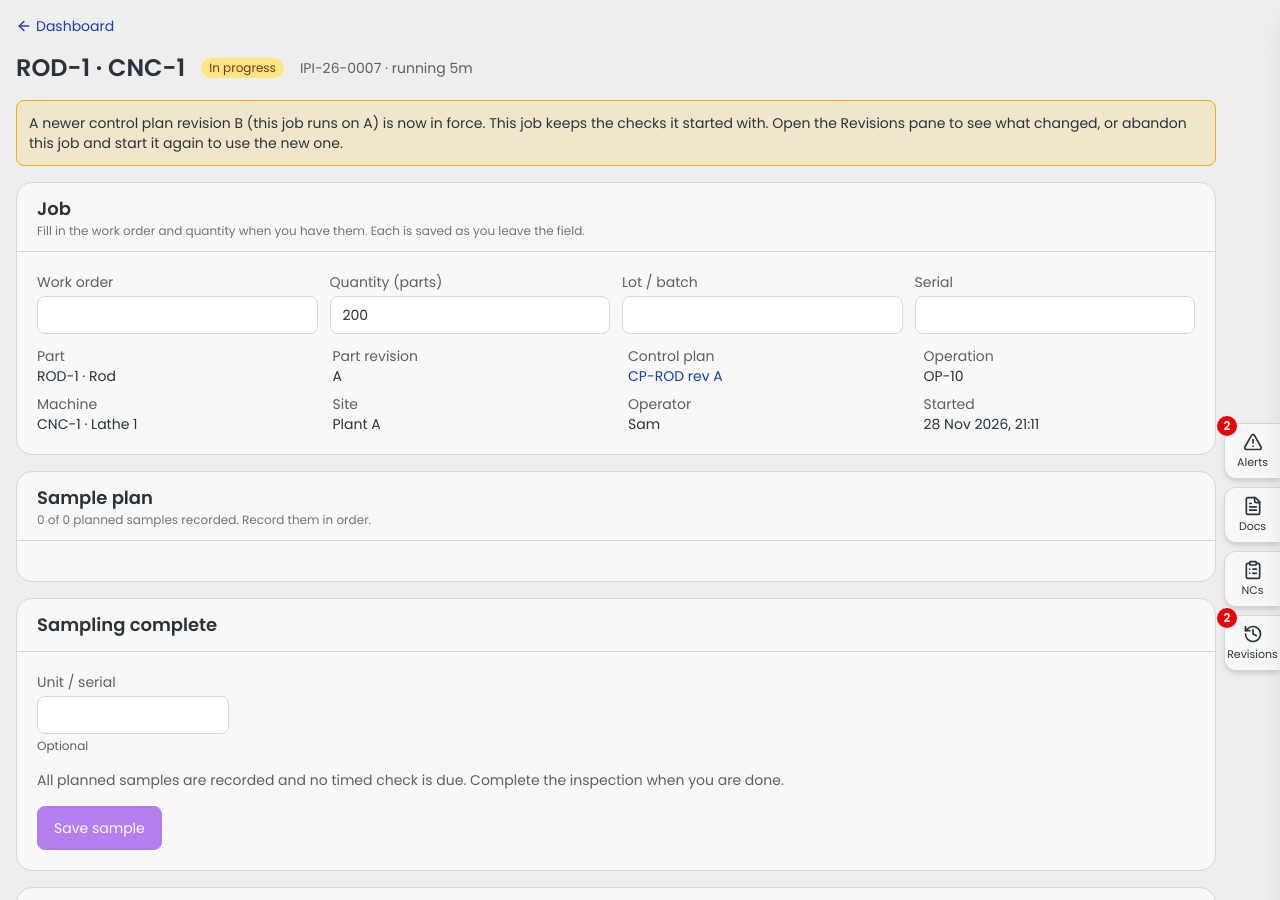
Test: the non-conformances pane › says so when there are none
Click the button "NCs" at (1252, 579), box [1224,551,1279,607]
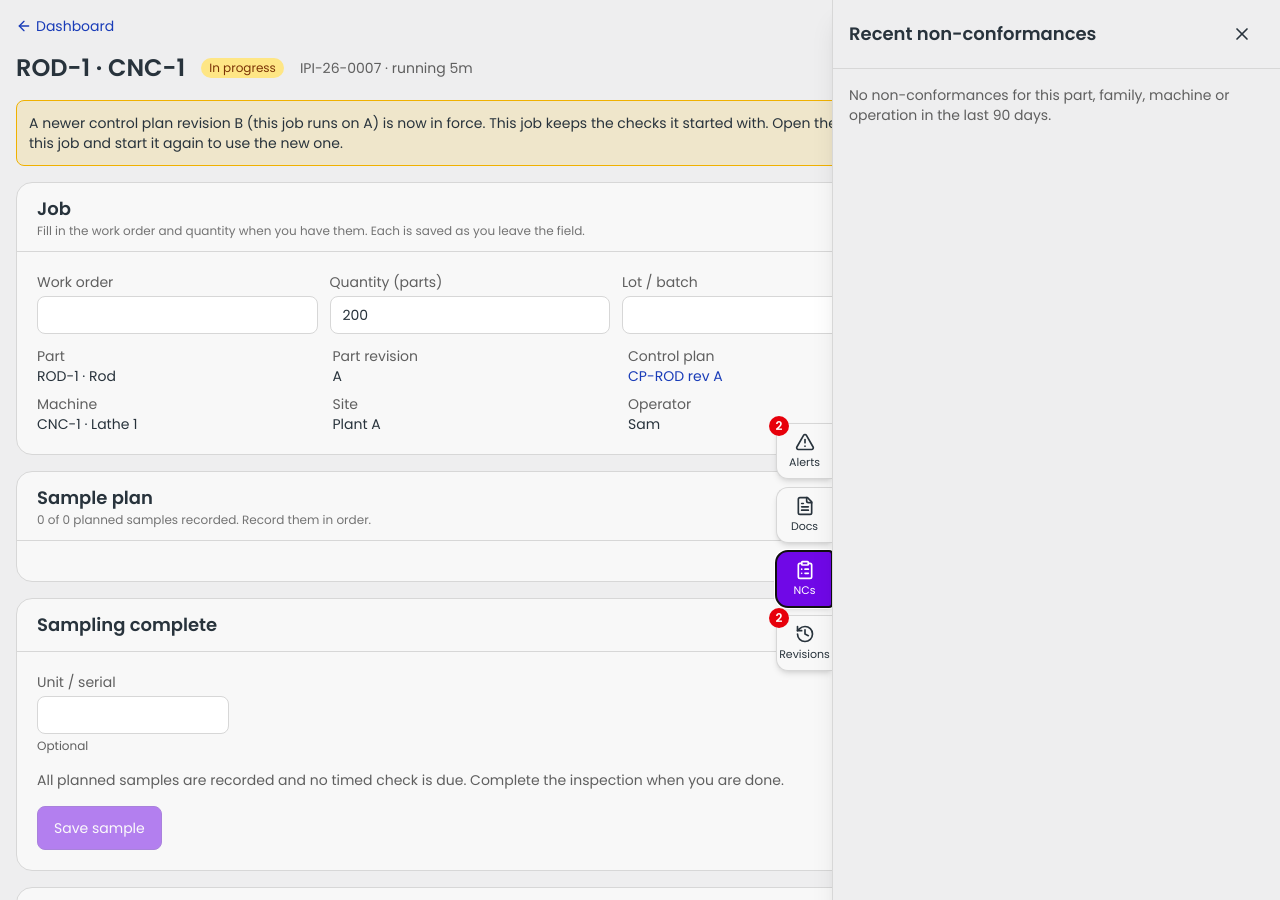
Now the text "No non-conformances for this part, family, machine or operation in the last 90 days" is shown, box [849,85,1264,125]
